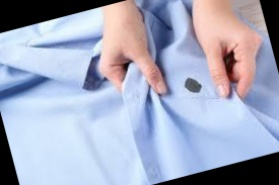ink: (184, 76, 202, 94)
